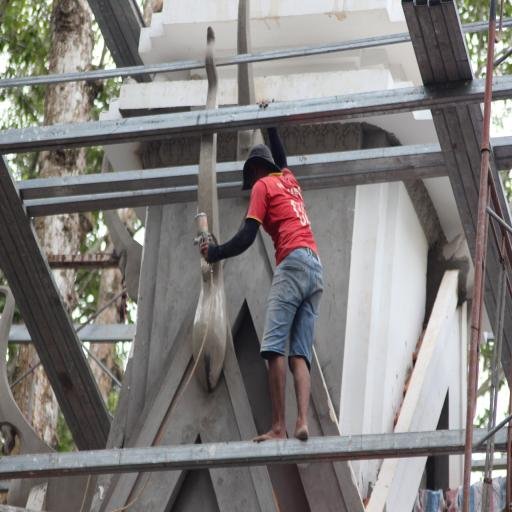ran: (193, 44, 226, 393)
